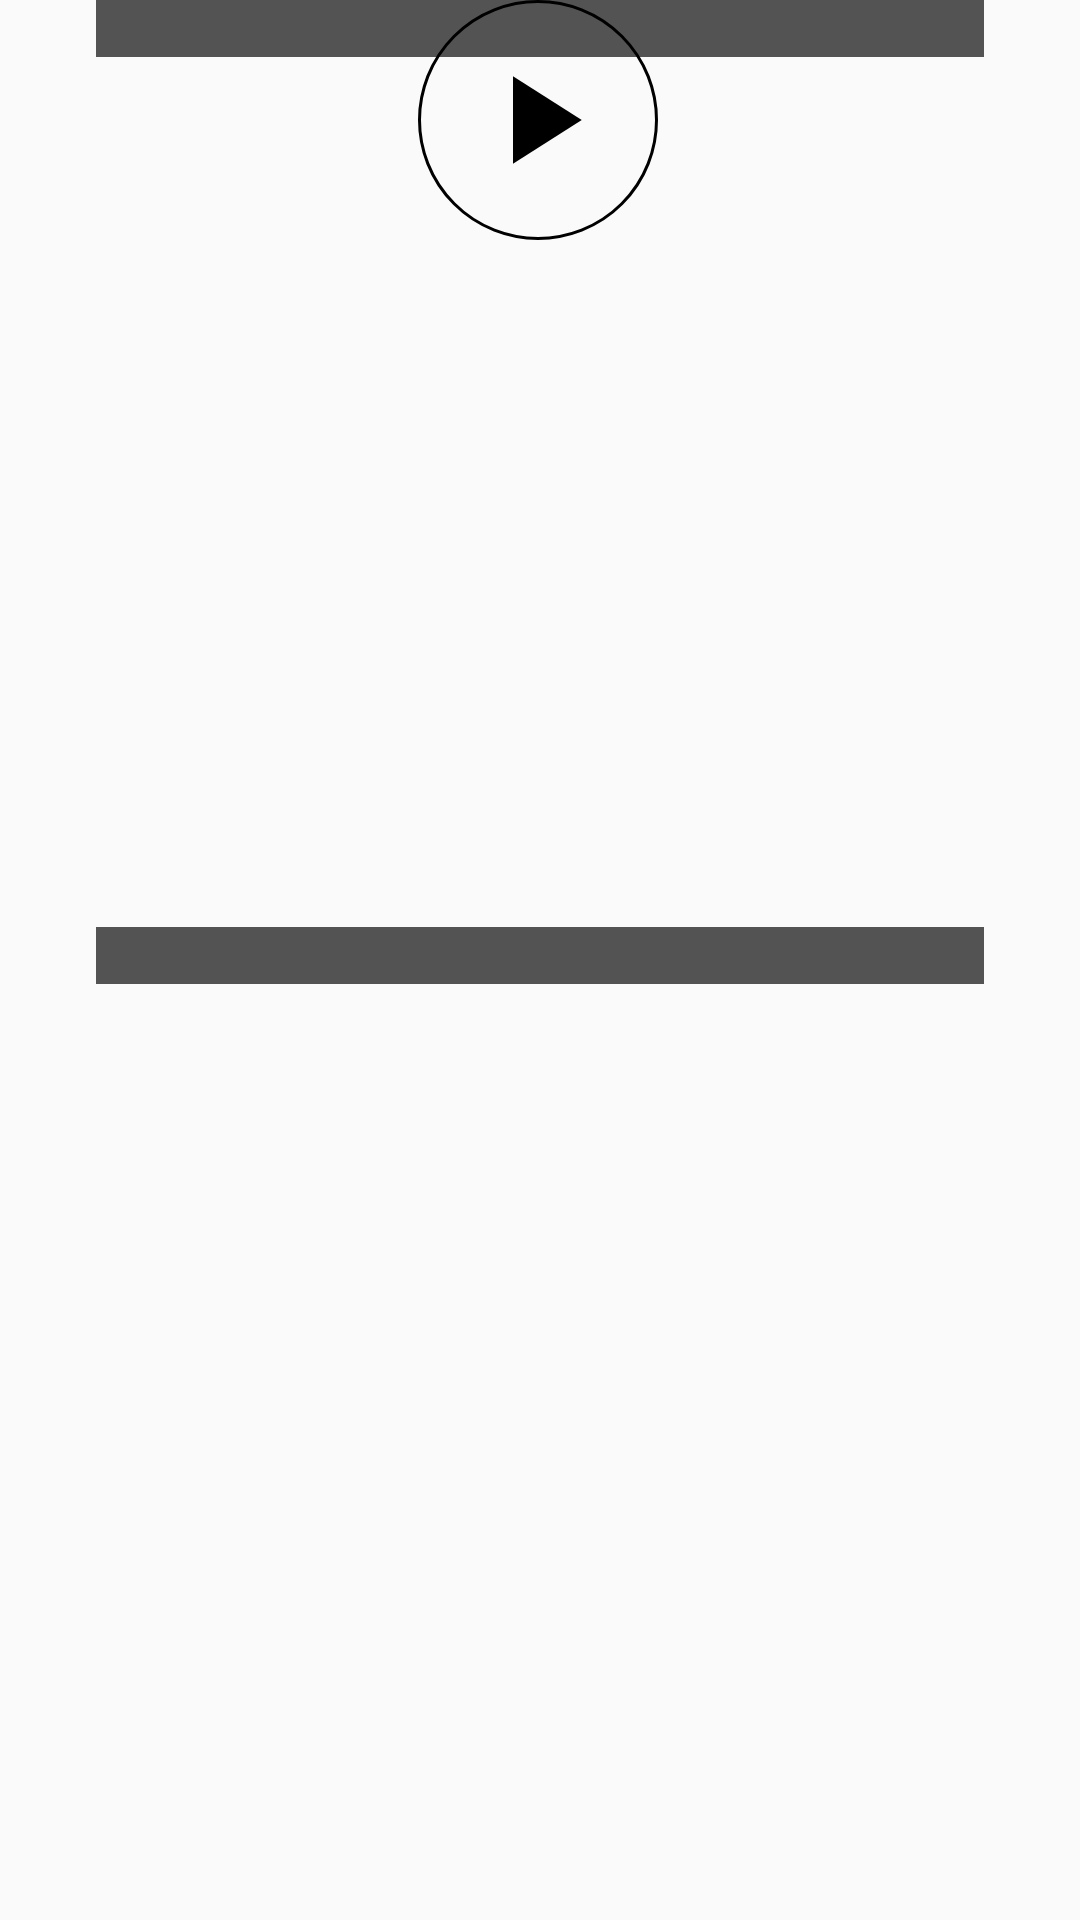

Point at icon controls on the screen. Image size 1080x1920, points as (x,y).
play arrow: (538,120)
